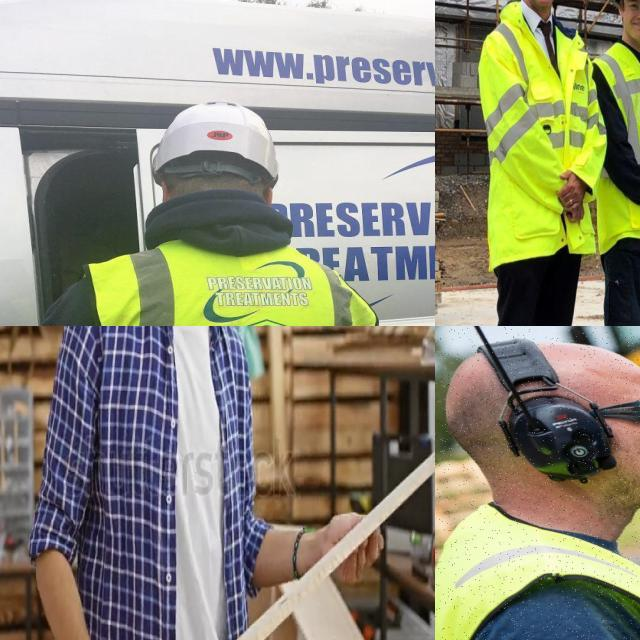No_Ear-Protection: (507, 396, 615, 483)
face_nomask: (600, 428, 640, 505), (620, 0, 640, 42)
glasses: (598, 399, 640, 422)
hand_noglove: (559, 170, 591, 229)
head_helmet: (148, 102, 280, 184)
person: (28, 326, 266, 640), (42, 156, 355, 326), (484, 0, 595, 326), (595, 0, 640, 326)
vest: (479, 0, 598, 256), (64, 240, 365, 326), (591, 50, 640, 251)
